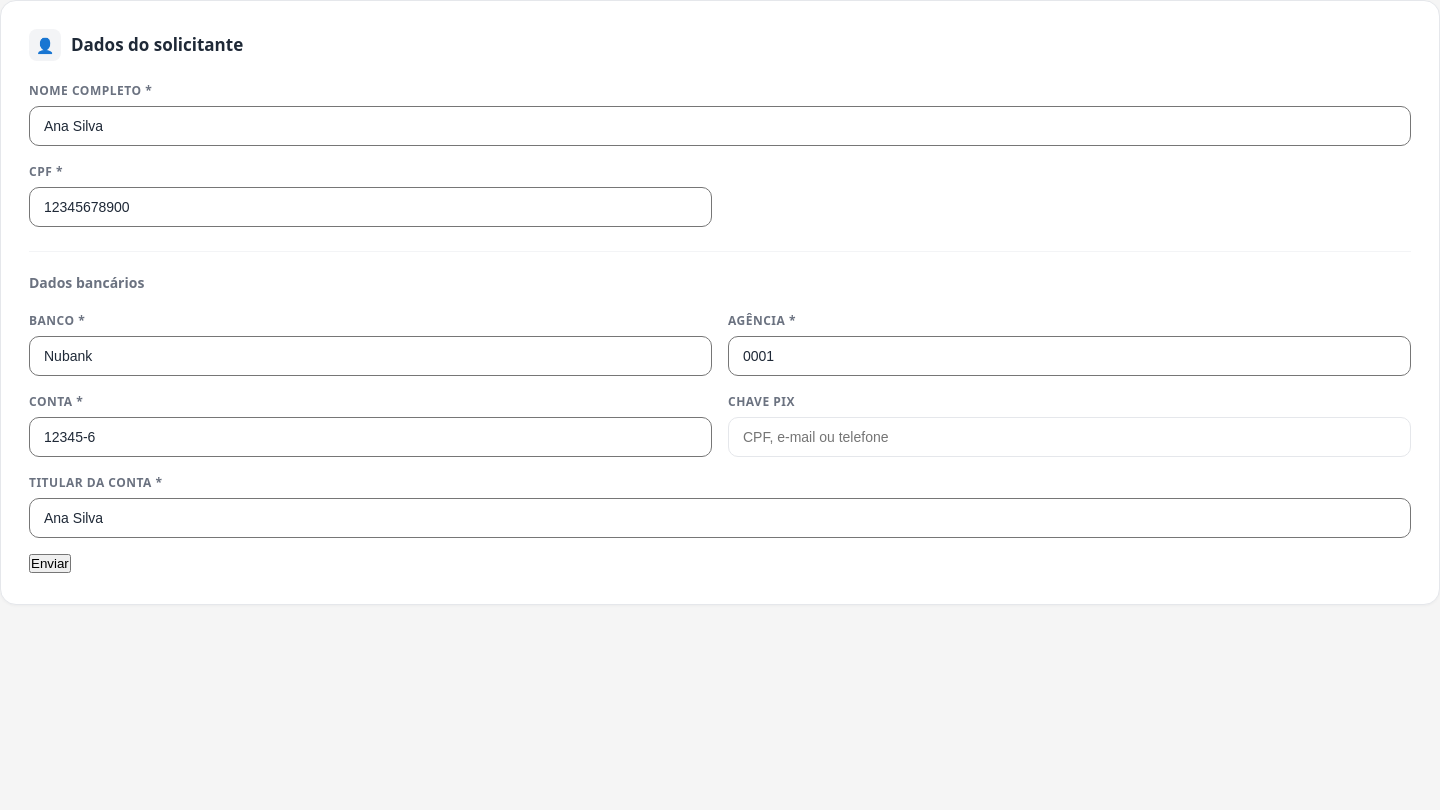
Scenario: SolicitanteForm › exibe erro de CPF inválido ao submeter com CPF sem máscara
Click the button "Enviar" at (50, 564), box [29,554,71,573]
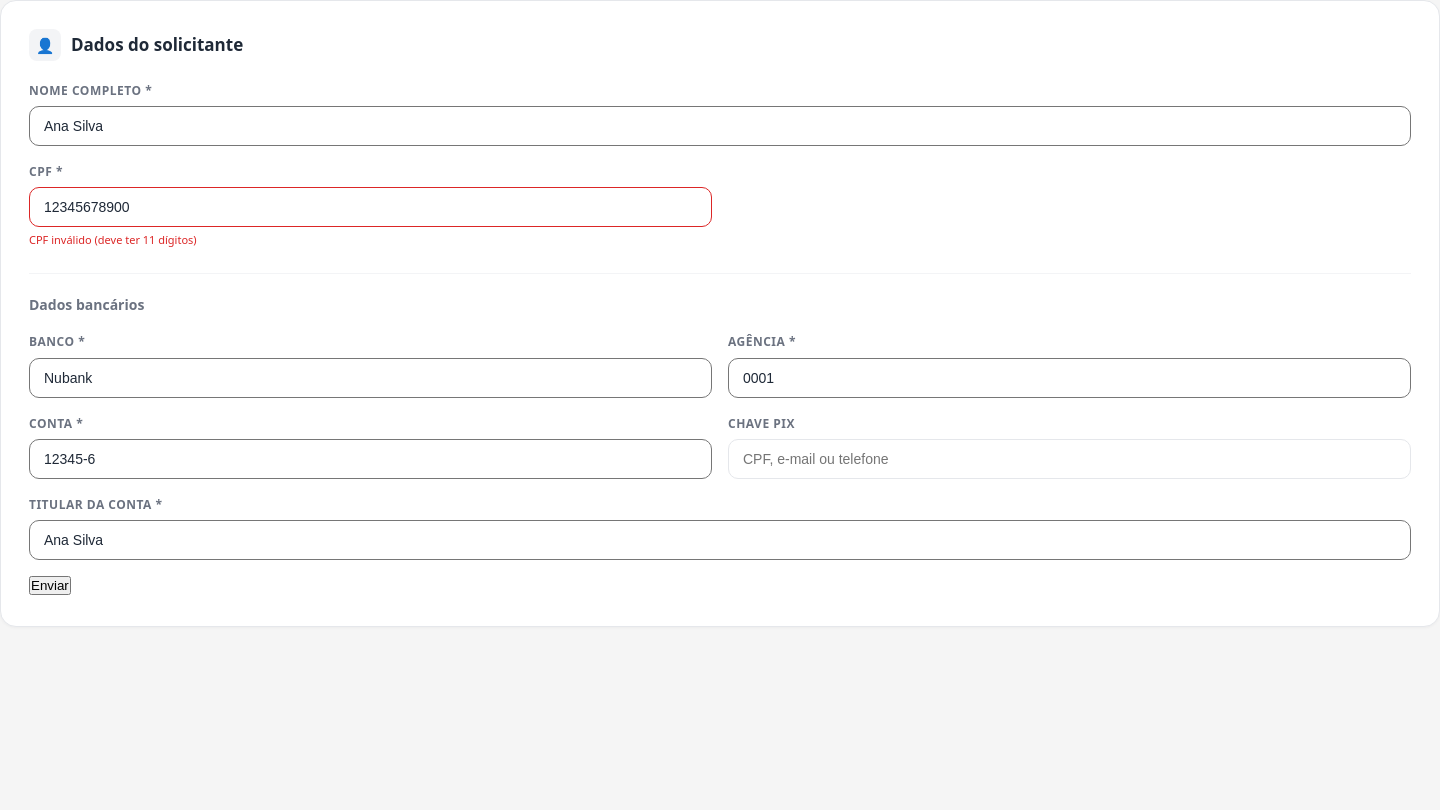
Expected: the text "CPF inválido (deve ter 11 dígitos)" is shown, [29,232,197,247]
